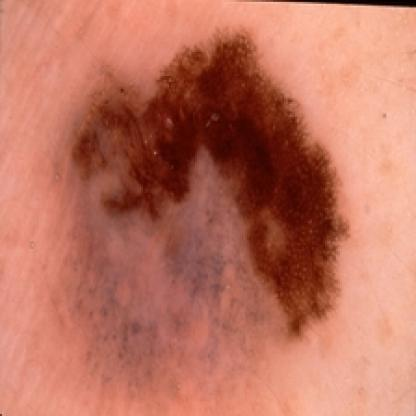Skin_Cancer-Malignant: (68, 23, 354, 340)
